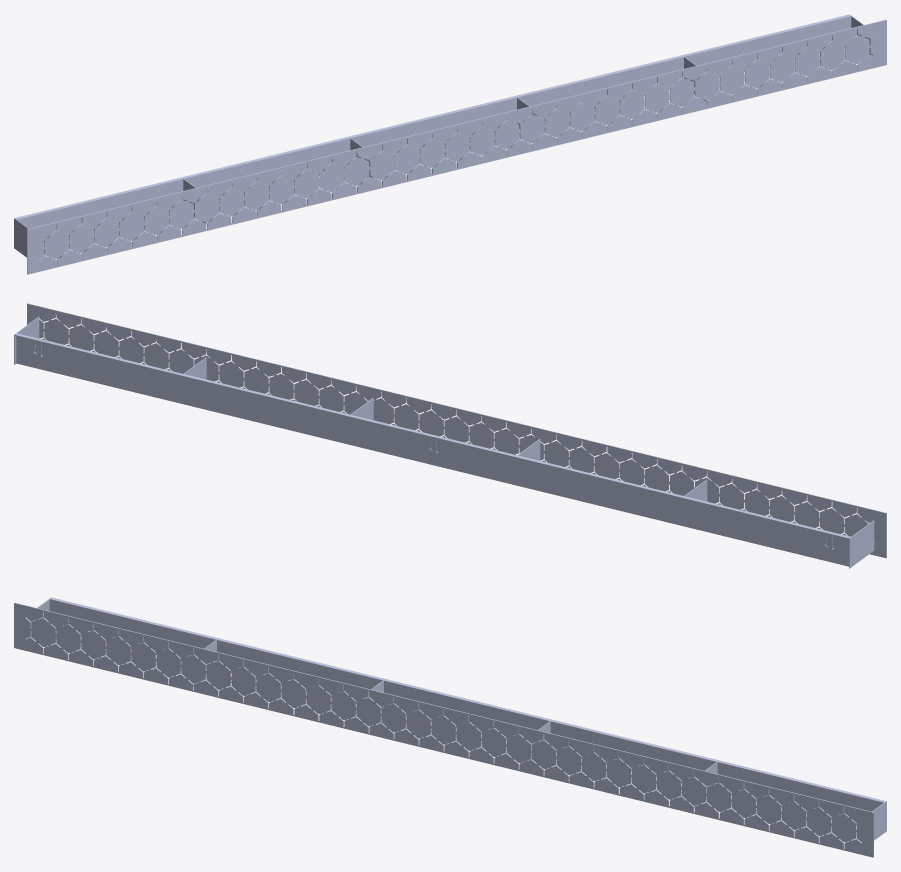
File: bee-mono.179b1f7d07.glb
The picture shows the model from 3 angles, top to bottom: view 1: azimuth 30°, elevation 25°; view 2: azimuth 150°, elevation 25°; view 3: azimuth 330°, elevation 25°; orthographic projection.
Visible parts, largest first — view 1: NAUO1; view 2: NAUO1; view 3: NAUO1.
Boxes of the visible parts, left/top/right/bottom form: NAUO1: left=14, top=14, right=886, bottom=274; NAUO1: left=14, top=303, right=886, bottom=568; NAUO1: left=14, top=597, right=886, bottom=857.
Size of the model in its own units: 1.8 by 0.0901 by 0.0921.
